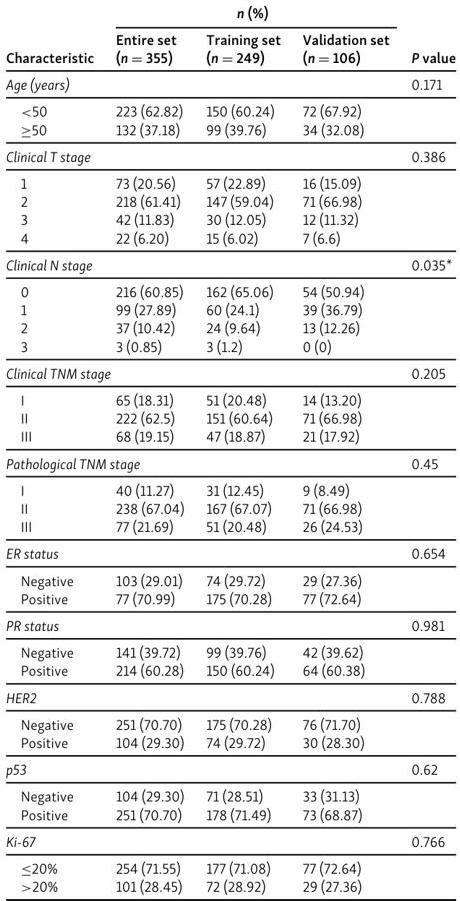table: (5, 5, 455, 895)
table column: (291, 5, 399, 895), (5, 5, 104, 895), (194, 5, 291, 895), (104, 5, 194, 895), (399, 5, 455, 895)
table column header: (5, 5, 455, 71)
table row: (5, 26, 455, 71), (5, 71, 455, 98), (5, 143, 455, 170), (5, 251, 455, 278), (5, 359, 455, 386), (5, 450, 455, 477), (5, 540, 455, 567), (5, 612, 455, 639), (5, 684, 455, 711), (5, 756, 455, 783), (5, 828, 455, 855), (5, 98, 455, 121), (5, 278, 455, 301), (5, 386, 455, 409), (5, 427, 455, 450), (5, 517, 455, 540), (5, 589, 455, 612), (5, 661, 455, 684), (5, 733, 455, 756), (5, 805, 455, 828), (5, 121, 455, 143), (5, 170, 455, 192), (5, 229, 455, 251), (5, 337, 455, 359), (5, 477, 455, 499), (5, 567, 455, 589), (5, 639, 455, 661), (5, 711, 455, 733), (5, 783, 455, 805), (5, 855, 455, 877), (5, 5, 455, 26), (5, 210, 455, 229), (5, 192, 455, 210), (5, 301, 455, 319), (5, 319, 455, 337), (5, 409, 455, 427), (5, 499, 455, 517), (5, 877, 455, 895)
table spanning cell: (5, 359, 291, 386), (5, 450, 291, 477), (5, 5, 104, 71), (104, 5, 399, 26), (399, 5, 455, 71)
